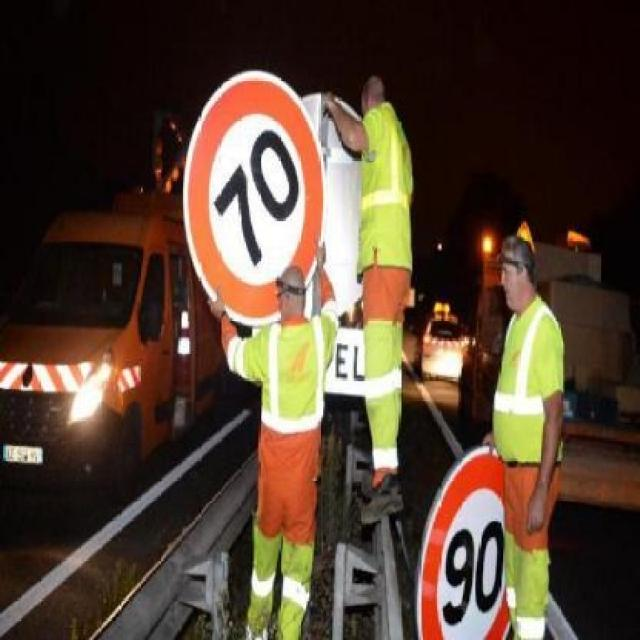forb_speed_over_70: (188, 77, 321, 266)
